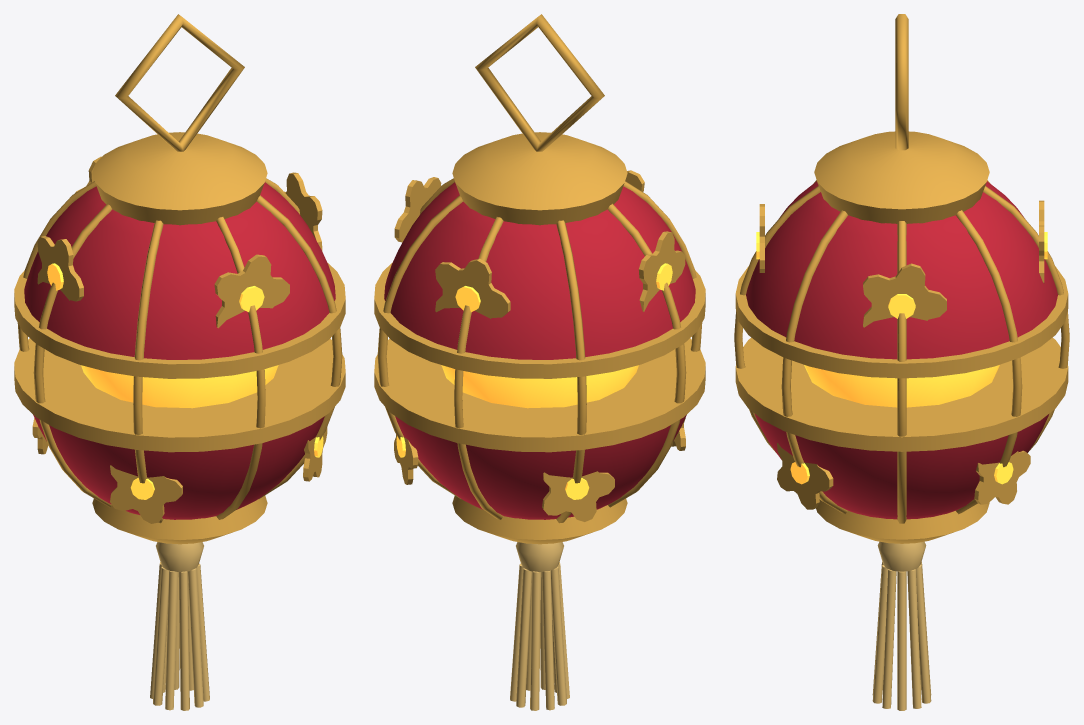
File: den-long-hoa-mai.glb
3 views of the same model, side by side, from view 1: azimuth 30°, elevation 25°; view 2: azimuth 150°, elevation 25°; view 3: azimuth 270°, elevation 25° (orthographic).
Parts seen in each view (by area): view 1: paper_hi, ring_lo, cap_hi, paper_lo, ring_hi, tassel, core, cap_lo, handle, mai3True, rib5, rib4 (+8 smaller); view 2: paper_hi, ring_lo, cap_hi, paper_lo, ring_hi, tassel, core, cap_lo, handle, mai1True, rib3, rib4 (+8 smaller); view 3: paper_hi, ring_lo, cap_hi, paper_lo, ring_hi, tassel, core, cap_lo, mai0True, rib7, rib0, rib1 (+7 smaller).
Part boxes in pixels (<box>): paper_hi: <box>24,182,335,359</box>; ring_lo: <box>14,338,345,452</box>; cap_hi: <box>92,132,267,225</box>; paper_lo: <box>33,414,324,519</box>; ring_hi: <box>14,262,345,378</box>; tassel: <box>150,562,209,710</box>; core: <box>81,365,278,408</box>; cap_lo: <box>92,495,267,544</box>; handle: <box>115,14,244,151</box>; mai3True: <box>214,254,289,328</box>; rib5: <box>133,220,163,523</box>; rib4: <box>33,203,112,507</box>; paper_hi: <box>384,182,695,359</box>; ring_lo: <box>374,338,705,452</box>; cap_hi: <box>452,132,627,225</box>; paper_lo: <box>395,414,686,519</box>; ring_hi: <box>374,262,705,378</box>; tassel: <box>510,562,569,710</box>; core: <box>441,365,638,408</box>; cap_lo: <box>452,495,627,544</box>; handle: <box>475,14,604,151</box>; mai1True: <box>435,258,510,318</box>; rib3: <box>556,220,586,523</box>; rib4: <box>607,203,686,507</box>; paper_hi: <box>746,181,1057,359</box>; ring_lo: <box>735,337,1068,451</box>; cap_hi: <box>814,131,989,223</box>; paper_lo: <box>755,414,1048,519</box>; ring_hi: <box>735,266,1068,378</box>; tassel: <box>872,562,931,710</box>; core: <box>804,365,999,407</box>; cap_lo: <box>816,499,989,543</box>; mai0True: <box>863,263,946,327</box>; rib7: <box>781,210,847,514</box>; rib0: <box>897,221,906,523</box>; rib1: <box>956,210,1022,514</box>.
Size of the model in its own units: 0.2485 by 0.5595 by 0.2485.
